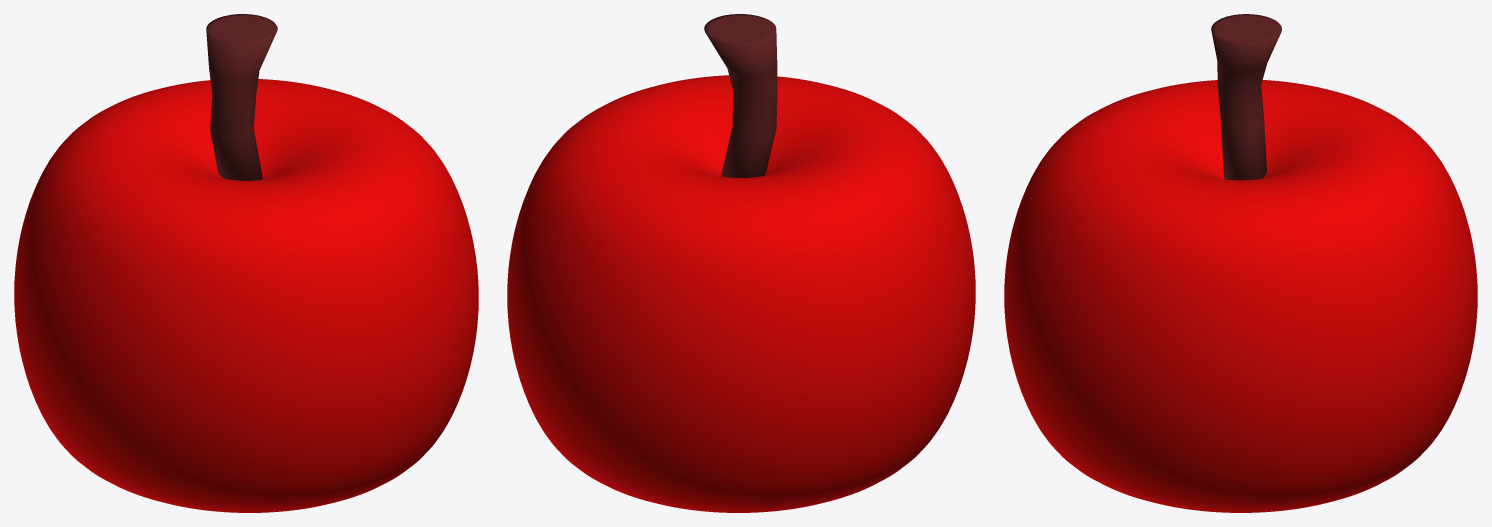
File: apple.glb
3 renders of one model, left to right at view 1: azimuth 30°, elevation 25°; view 2: azimuth 150°, elevation 25°; view 3: azimuth 270°, elevation 25°, orthographic.
Visible parts, largest first — view 1: Sphere; view 2: Sphere; view 3: Sphere.
Part boxes in pixels (x1,y1,x2,y2): Sphere: [14, 14, 478, 512]; Sphere: [507, 14, 975, 512]; Sphere: [1004, 14, 1477, 512].
Bounding box in the file's own units: 1.45 × 1.46 × 1.48.
